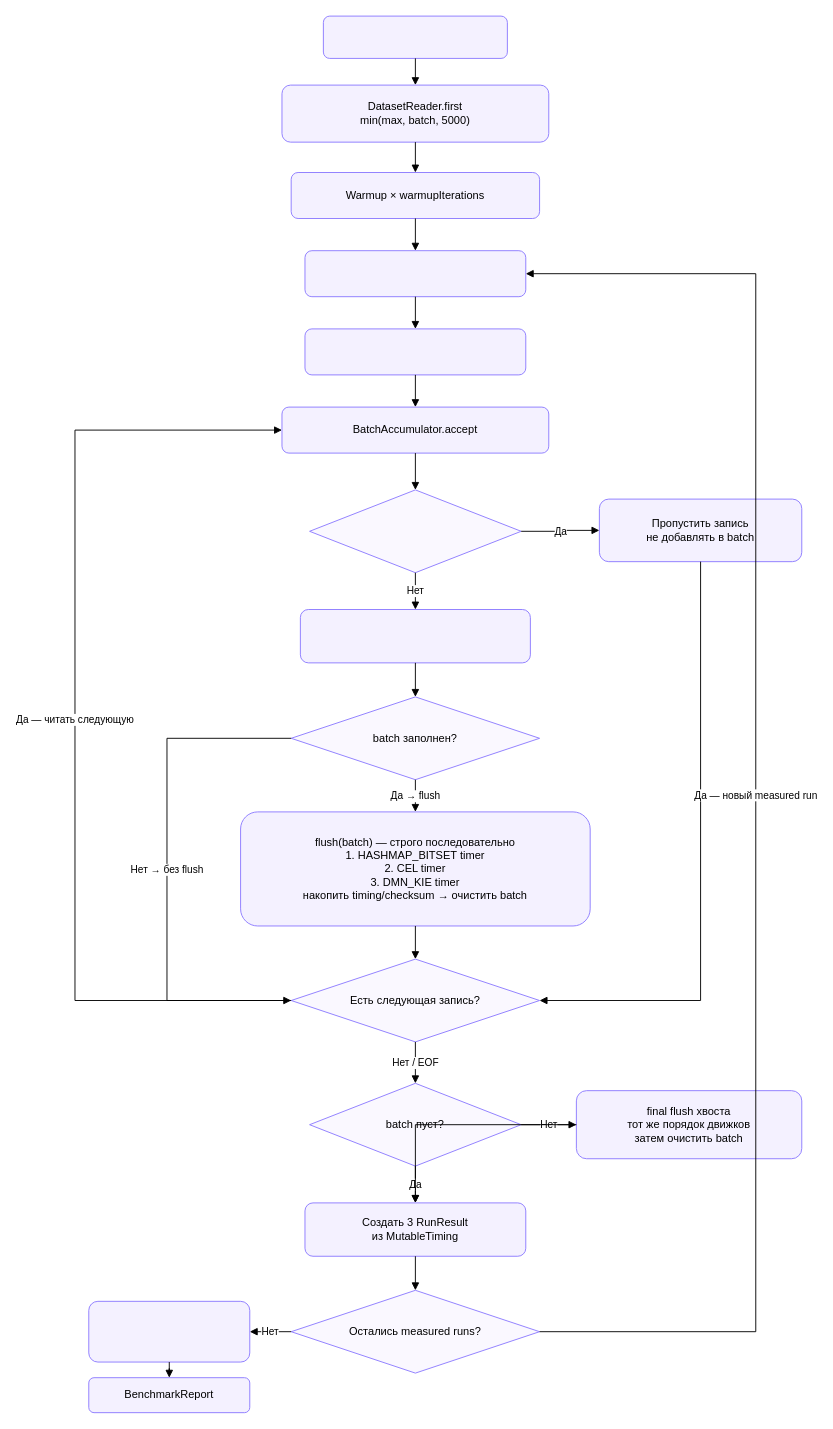
The diagram is 833 pixels wide and 1429 high, and some of its shapes have lost their labels. The centre of each missing label's shape, as x and y in pixels:
"benchmark" belongs at (x=414, y=36).
"DatasetReader.forEach" belongs at (x=415, y=351).
"median / min / max по движкам" belongs at (x=169, y=1331).
"seen >= max?" belongs at (x=415, y=531).
"seen++ и добавить запись в batch" belongs at (x=414, y=636).
"Начать measured run" belongs at (x=415, y=273).
